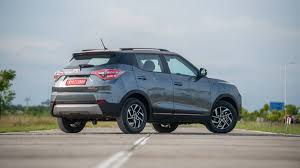XUV 400: (49, 45, 242, 134)
